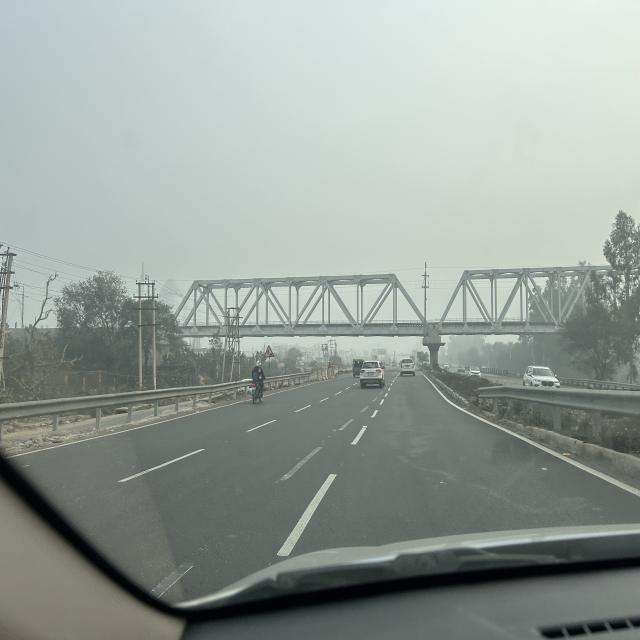WARNING: (264, 345, 274, 358)
